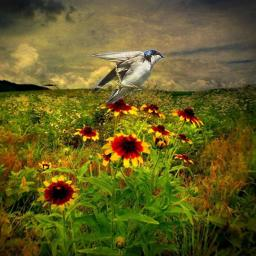Swallow: (85, 48, 165, 109)
